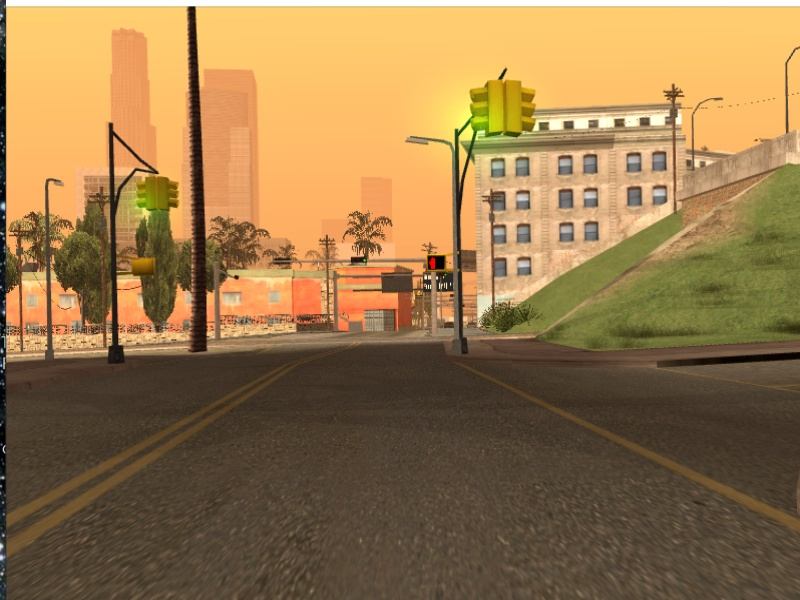pole: (102, 126, 127, 368), (449, 144, 470, 358), (41, 174, 59, 368), (426, 268, 443, 342)
tree: (180, 18, 219, 359)
